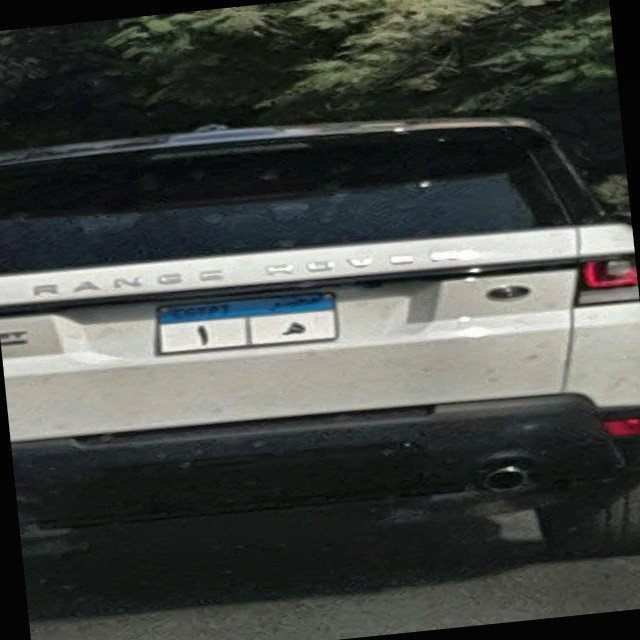License Plate: (151, 287, 342, 359)
